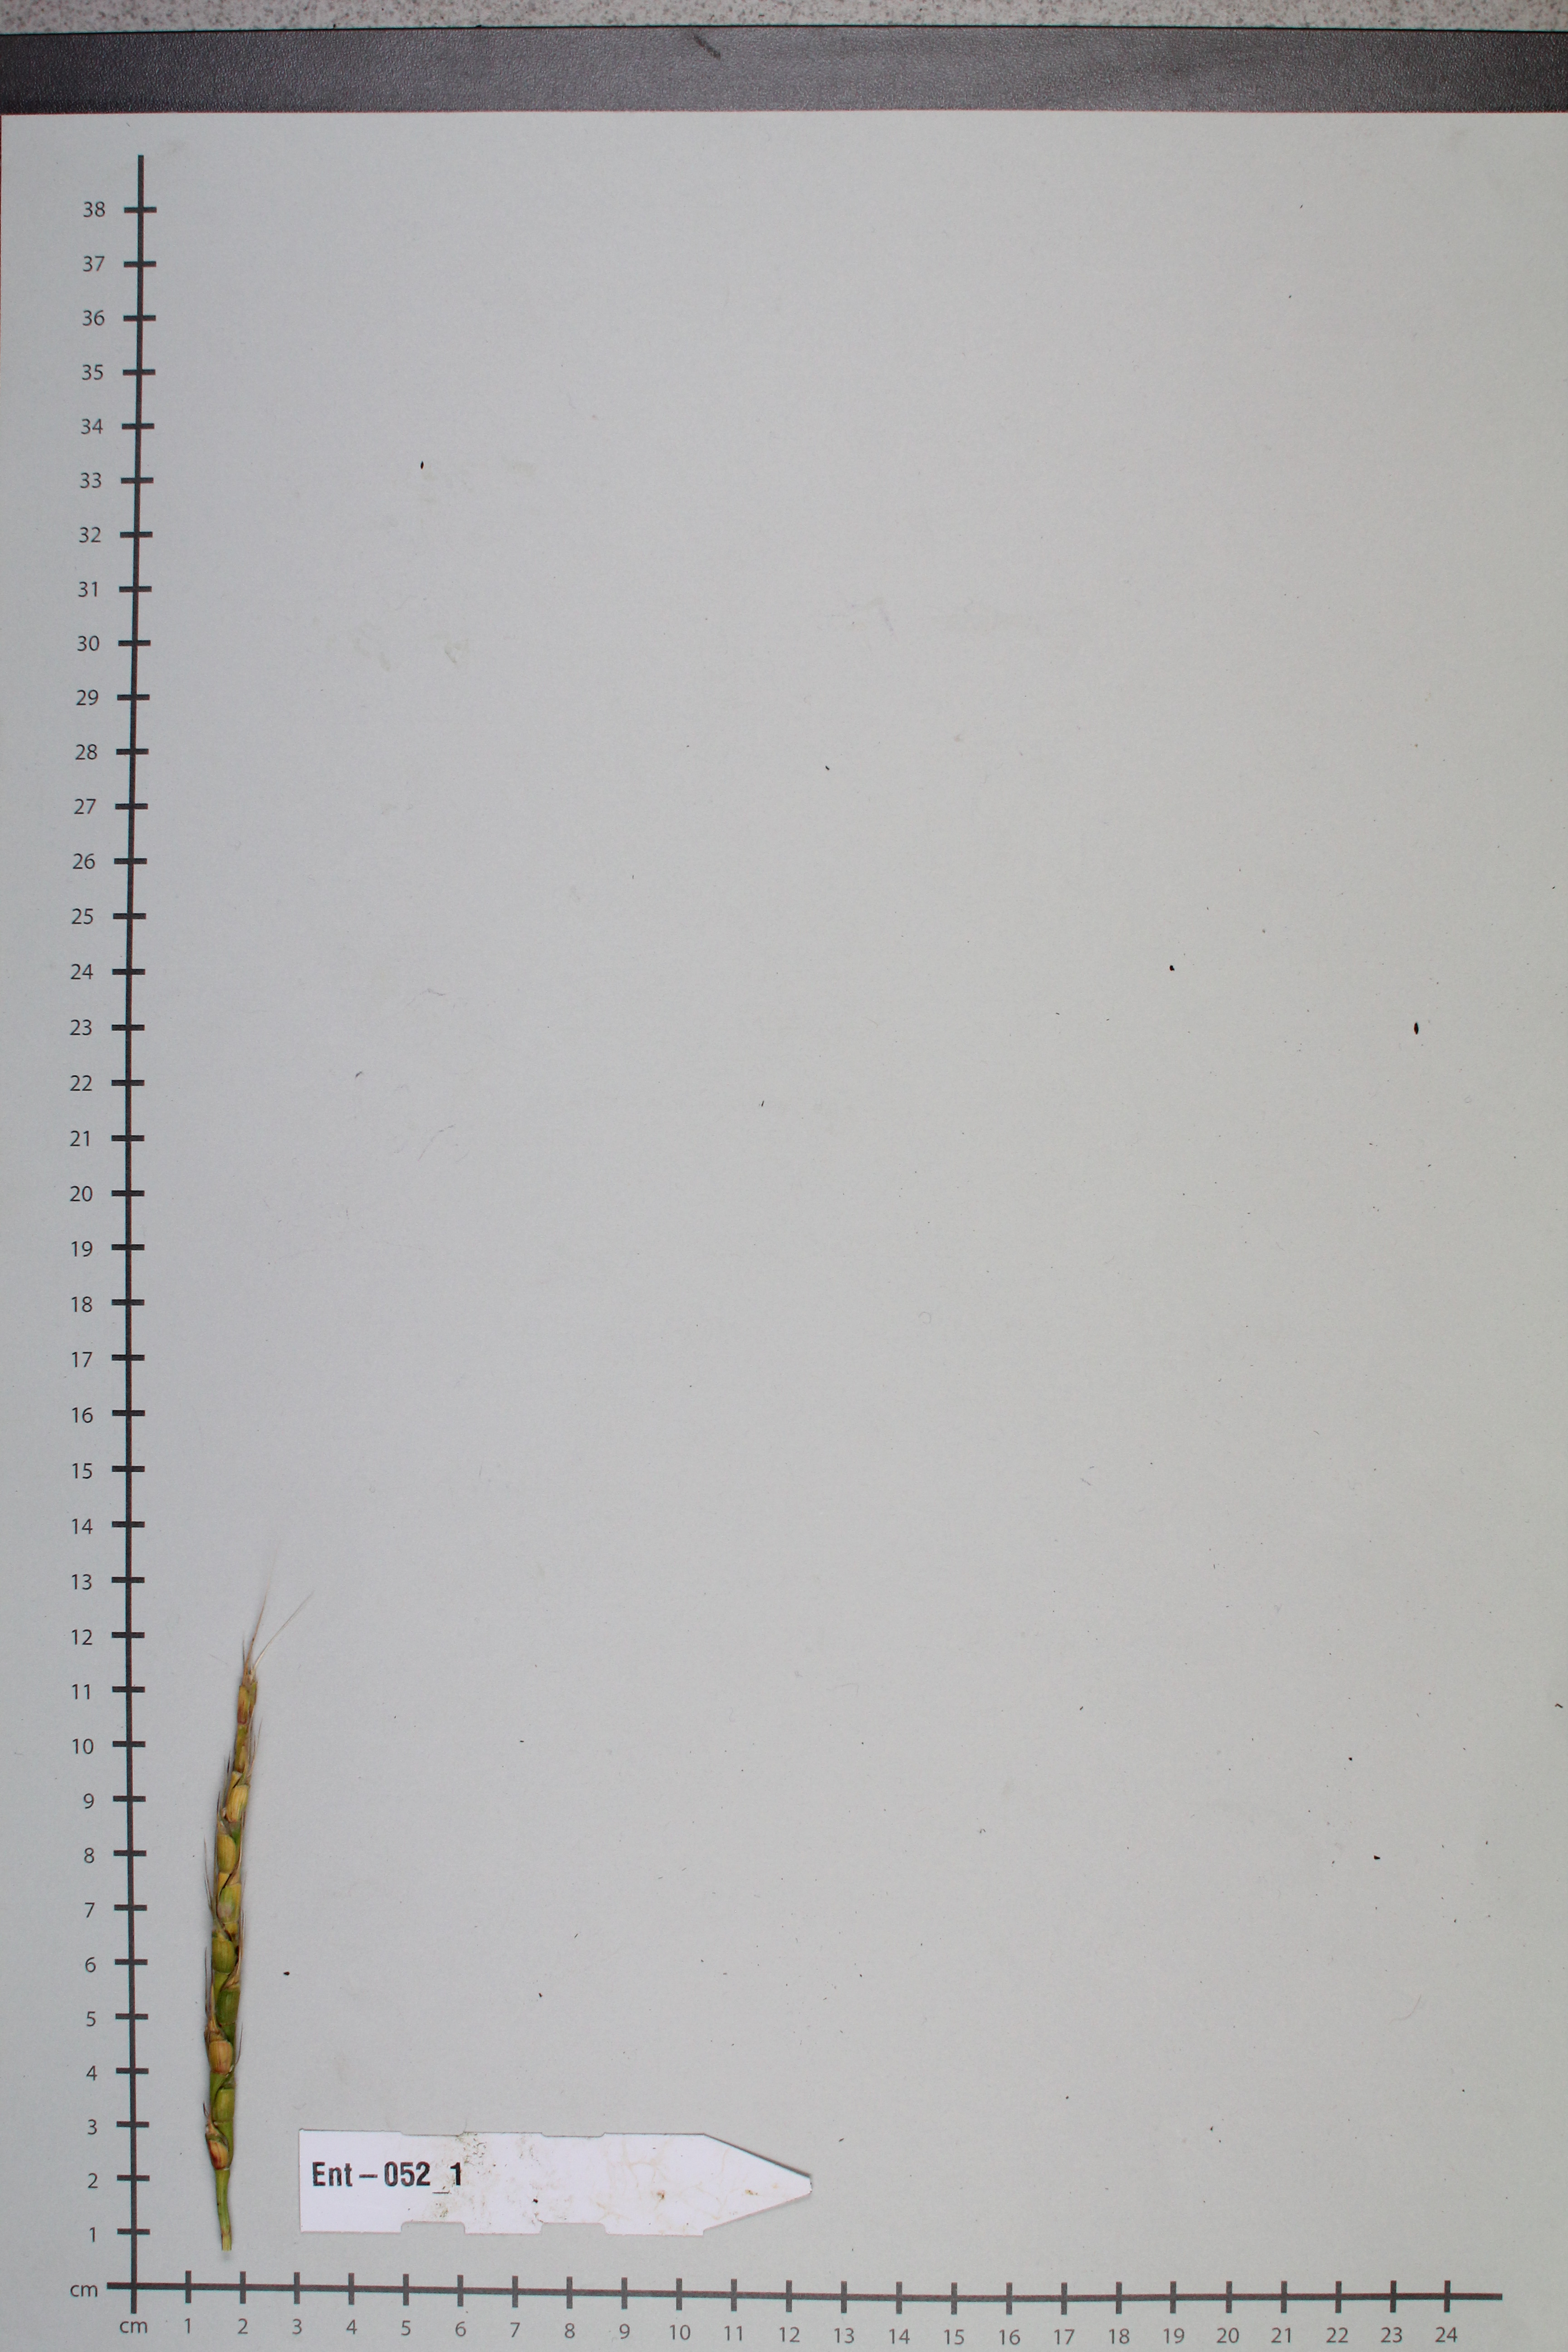oat: (186, 1598, 269, 2269)
tag: (285, 2100, 842, 2261)
